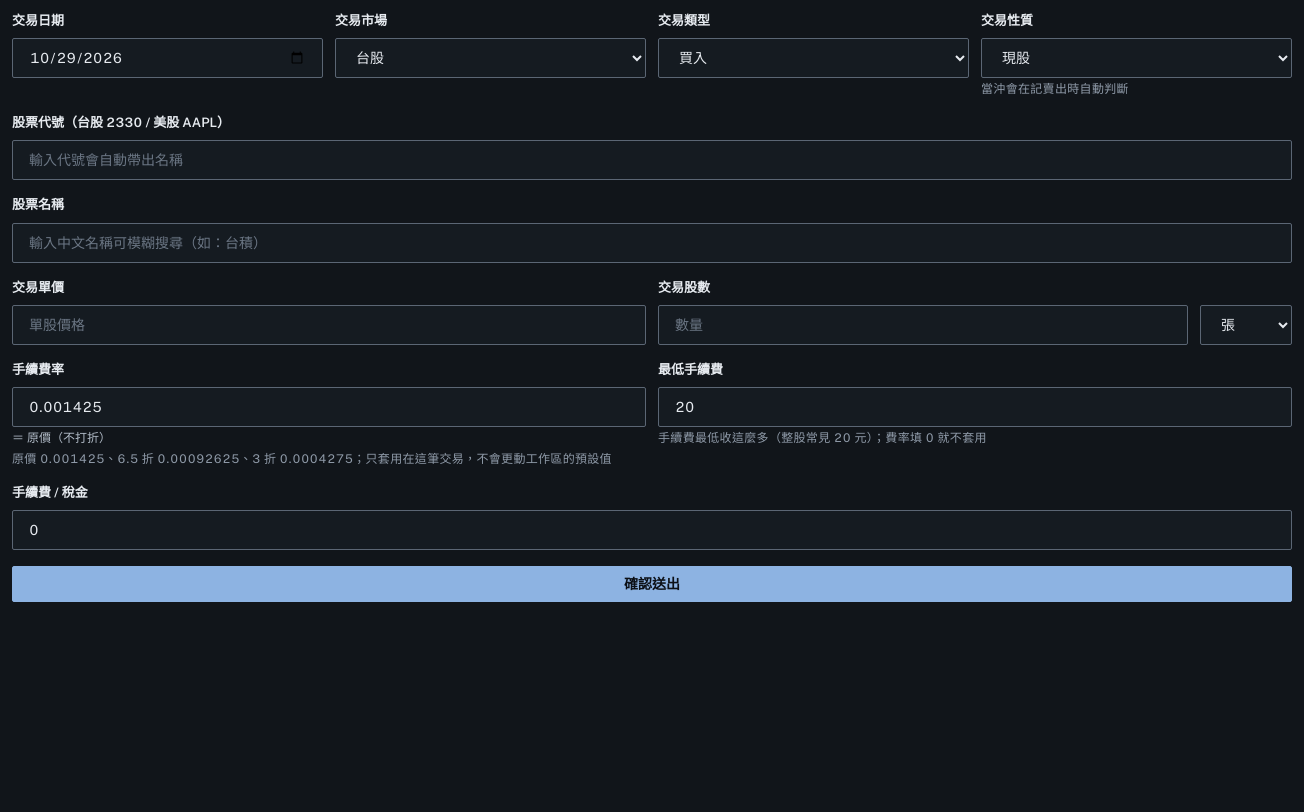
Test: TransactionForm 名稱搜尋載入指示 › S6: 選定建議後停止轉圈
The image size is (1304, 812).
Step 1. Type "台積" into the field labelled "股票名稱" → (652, 242), box [12,222,1292,262]
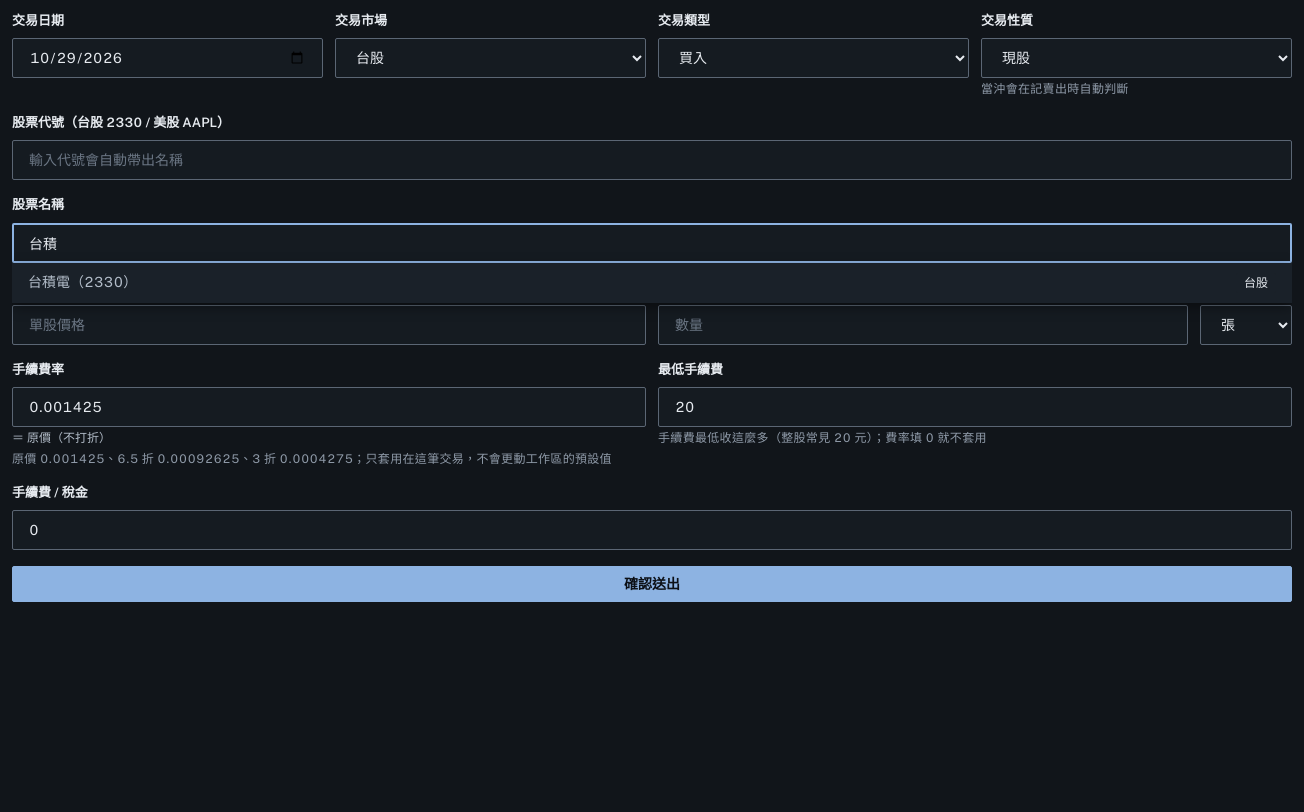
Step 2. Click the text "台積電（2330）" → click(83, 282), box [28,272,137,293]
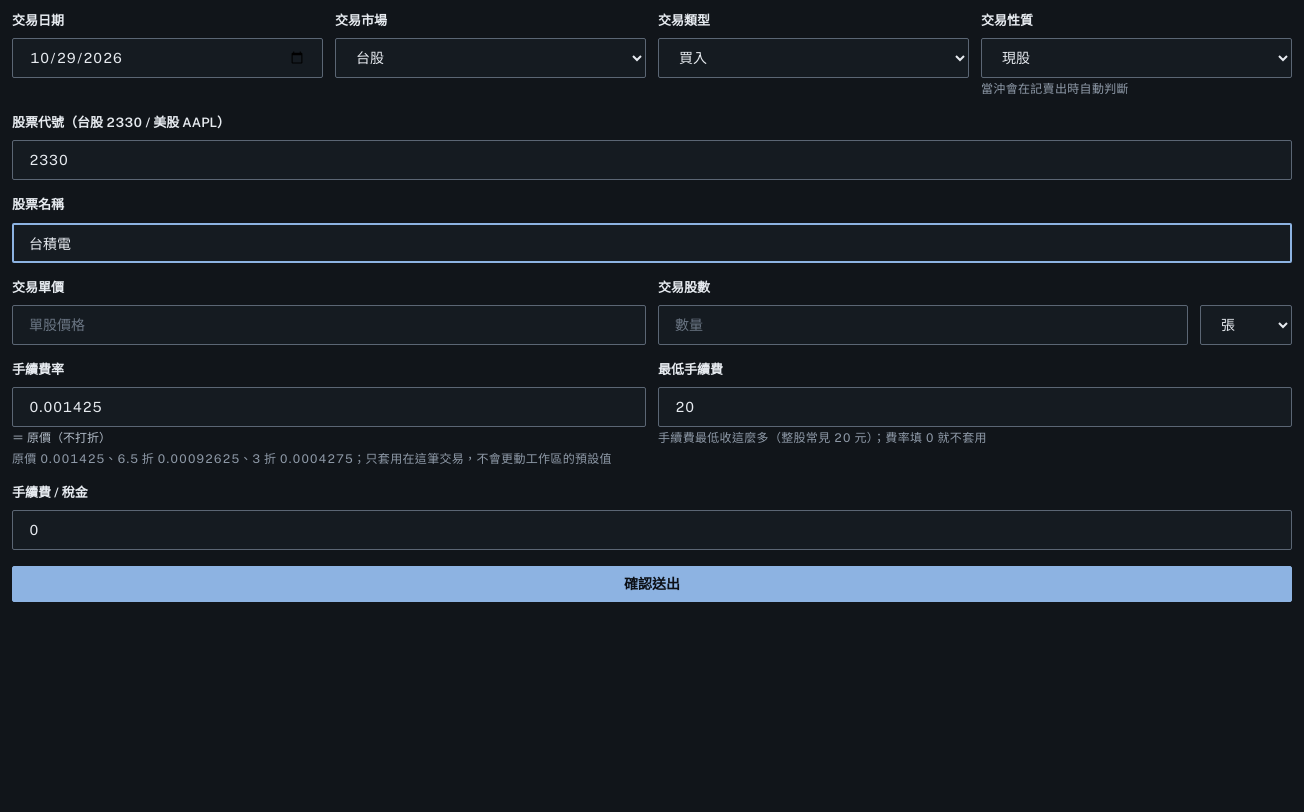
Expected: the field labelled "股票代號（台股 2330 / 美股 AAPL）" holds "2330", [12,140,1292,180]
